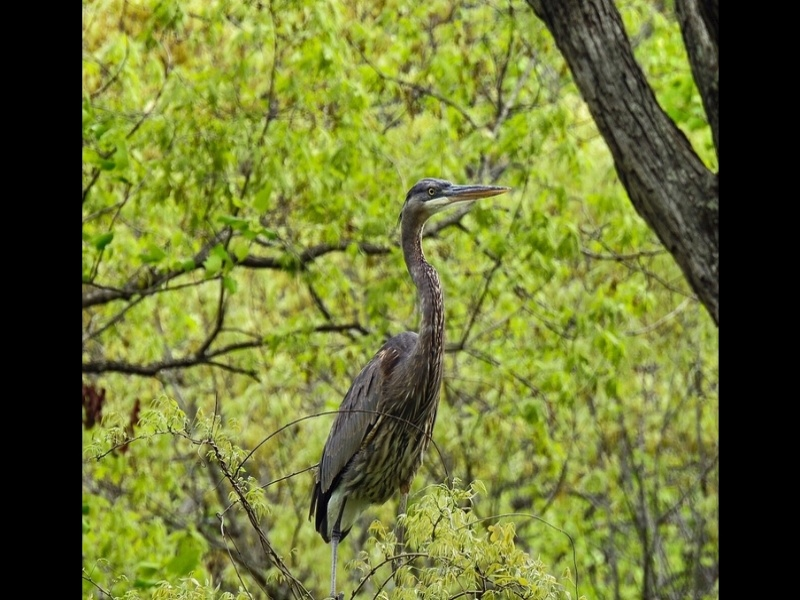heron: (306, 172, 514, 590)
